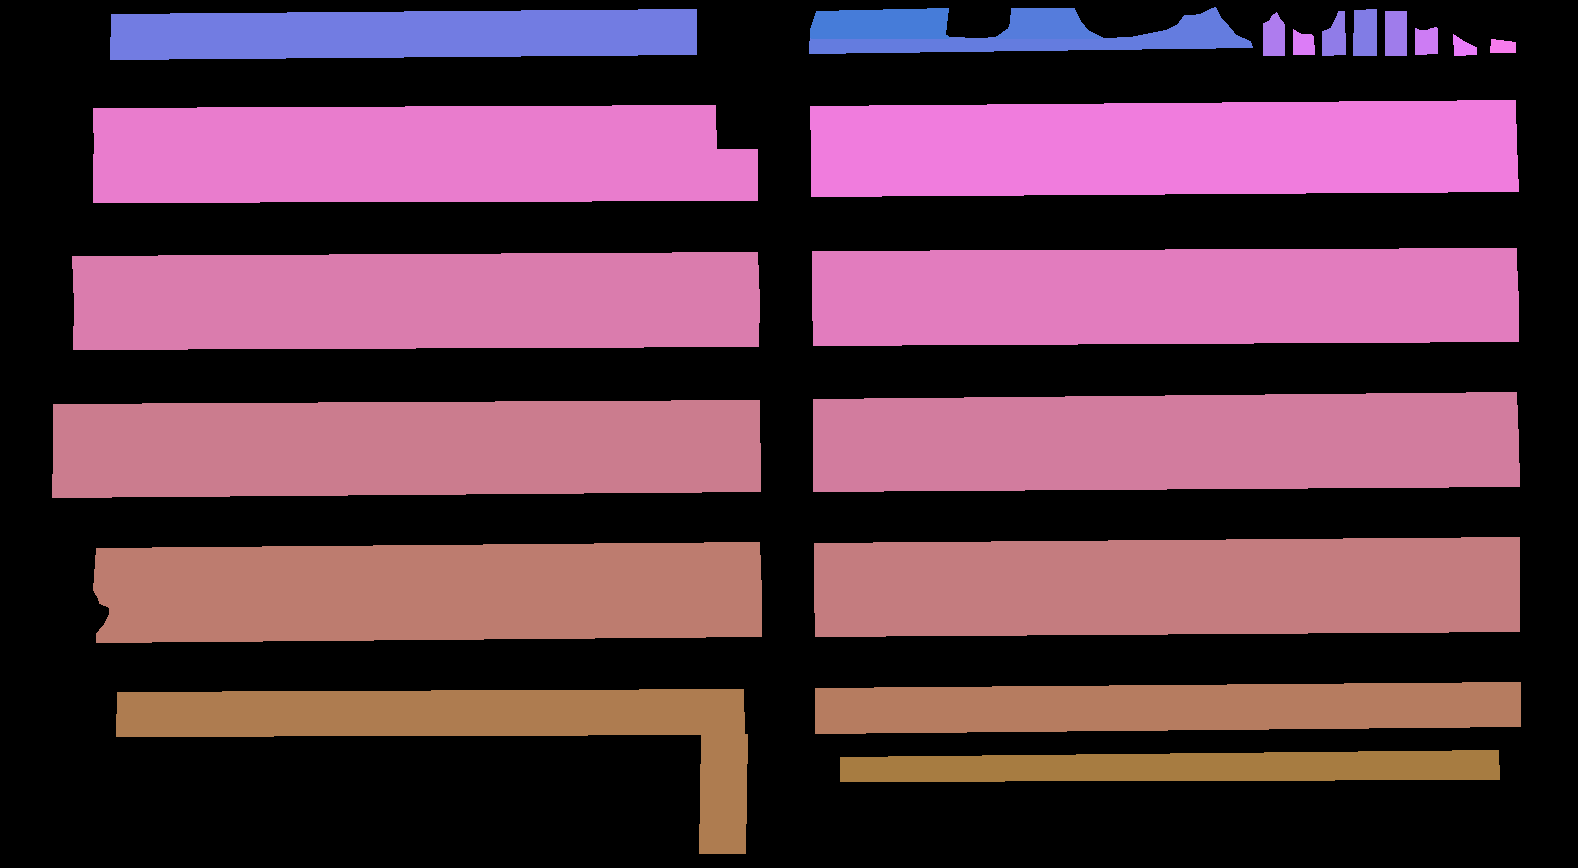parkingspot: (814, 537, 1519, 592), (52, 443, 760, 497), (812, 291, 1518, 345), (813, 392, 1518, 447), (814, 582, 1519, 636), (812, 248, 1517, 301), (93, 542, 761, 598), (811, 143, 1518, 196), (810, 100, 1516, 153), (813, 438, 1519, 491), (96, 587, 761, 642), (53, 400, 759, 452), (815, 682, 1520, 733), (72, 252, 759, 305), (93, 149, 757, 202), (73, 298, 759, 348), (93, 105, 716, 156), (116, 689, 744, 737), (110, 9, 696, 59), (840, 750, 1499, 781), (809, 7, 1252, 53), (699, 734, 747, 853), (1353, 9, 1376, 55), (1322, 11, 1345, 55), (1385, 11, 1406, 55), (1263, 12, 1284, 55), (1415, 27, 1437, 55), (1293, 29, 1314, 55), (1453, 34, 1477, 55), (1490, 38, 1515, 52)
